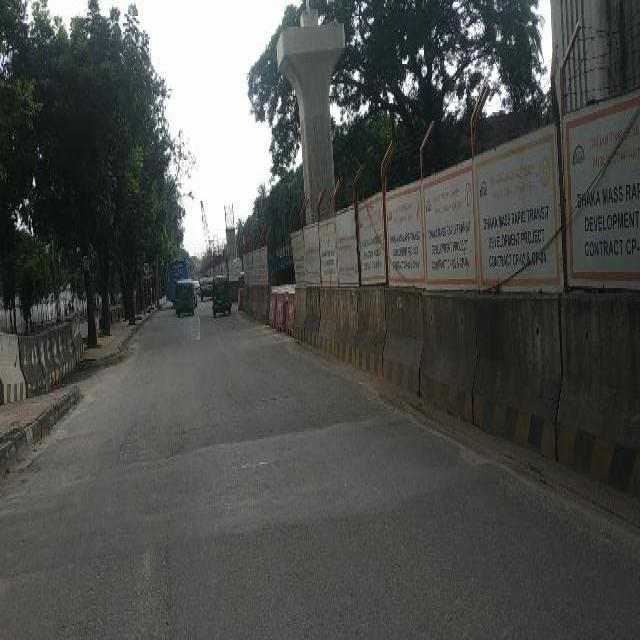vehicle: (213, 274, 233, 318), (175, 280, 196, 319), (200, 275, 212, 303)
